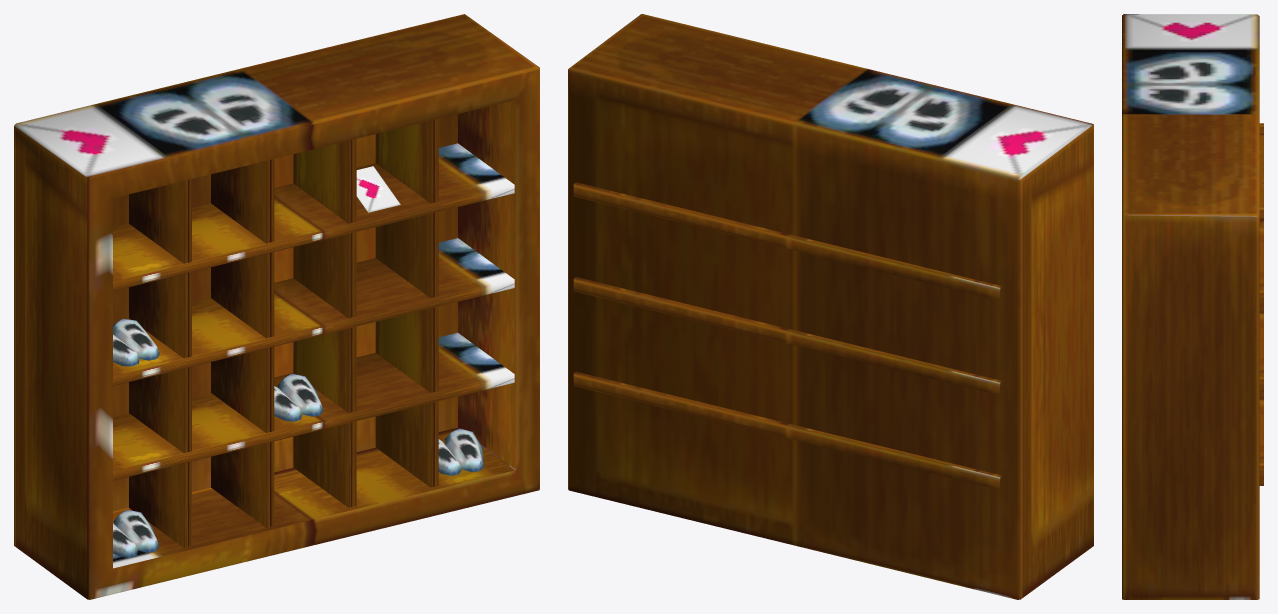
Rendered from int_sch_shoesbox.dae.
The picture shows the model from 3 angles, left to right: view 1: azimuth 30°, elevation 25°; view 2: azimuth 150°, elevation 25°; view 3: azimuth 270°, elevation 25°; orthographic projection. The views are drawn at different scales.
Parts seen in each view (by area): view 1: int_sch_shoesbox; view 2: int_sch_shoesbox; view 3: int_sch_shoesbox.
Part boxes in pixels (<box>): int_sch_shoesbox: <box>14,14,539,599</box>; int_sch_shoesbox: <box>568,14,1093,599</box>; int_sch_shoesbox: <box>1122,14,1263,599</box>.
Bounding box in the file's own units: 55 × 49 × 16.37.
Materials: 1 (1 with a texture image).
